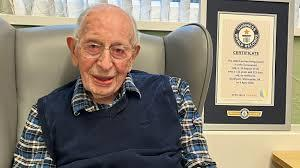person: (64, 3, 145, 97)
sunglasses: (79, 38, 135, 64)
